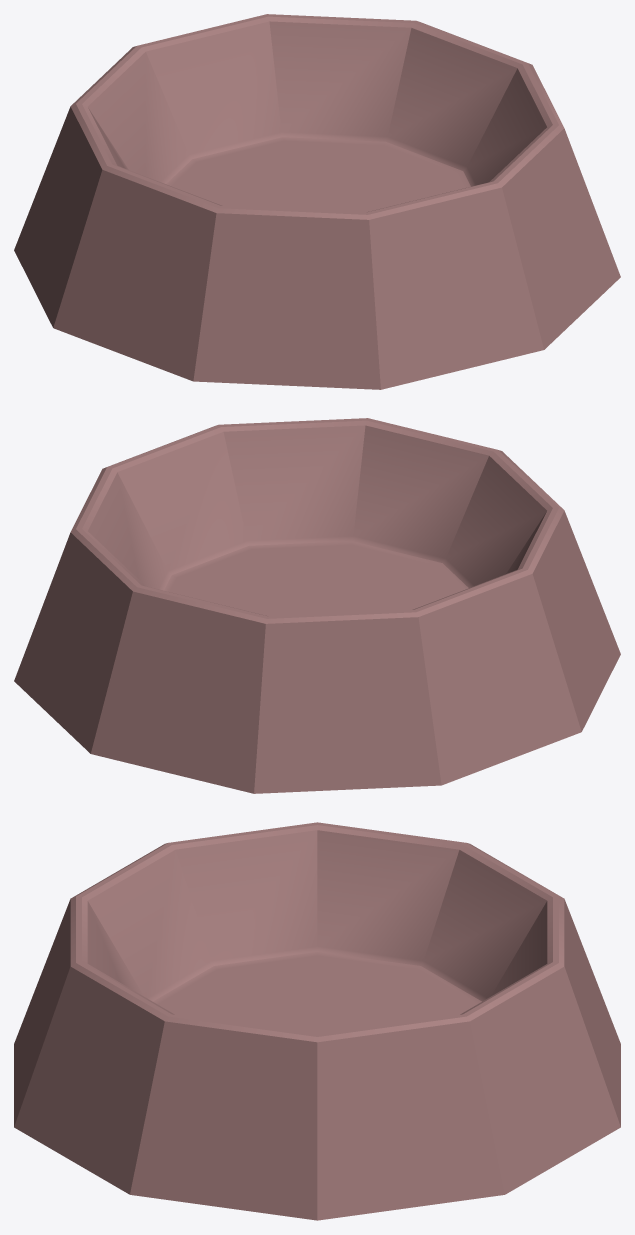
Rendered from Bowl.fbx.
The picture shows the model from 3 angles, top to bottom: view 1: azimuth 30°, elevation 25°; view 2: azimuth 150°, elevation 25°; view 3: azimuth 270°, elevation 25°; orthographic projection. The views are drawn at different scales.
Parts seen in each view (by area): view 1: pCylinder2; view 2: pCylinder2; view 3: pCylinder2.
Part boxes in pixels (<box>): pCylinder2: <box>14,14,620,389</box>; pCylinder2: <box>14,418,620,793</box>; pCylinder2: <box>14,822,620,1220</box>.
Bounding box in the file's own units: 2.93 × 0.7894 × 2.78.
